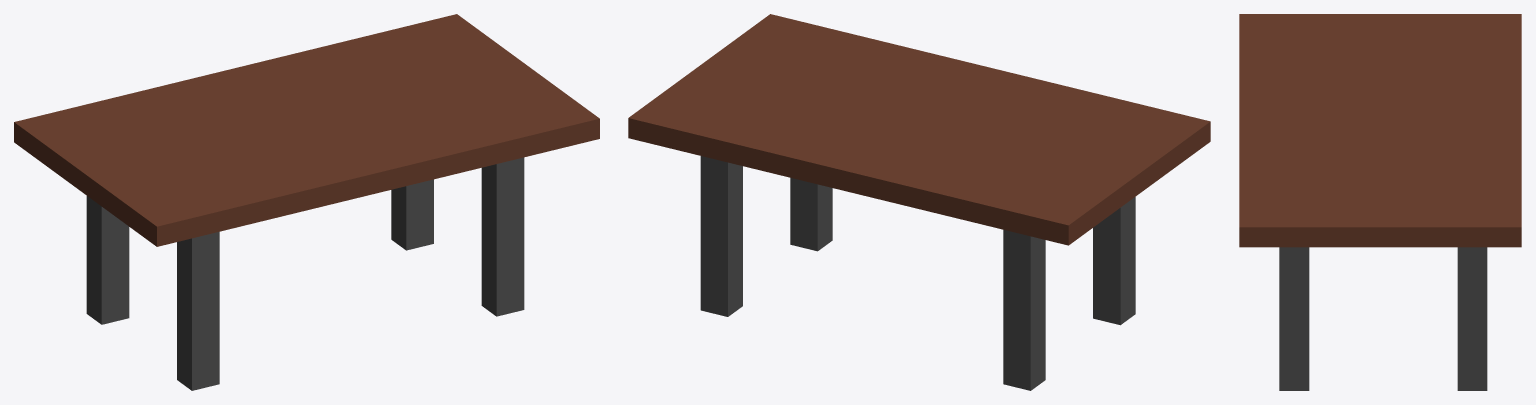
File: Mesa.fbx
3 renders of one model, left to right at view 1: azimuth 30°, elevation 25°; view 2: azimuth 150°, elevation 25°; view 3: azimuth 270°, elevation 25°, orthographic.
Visible parts, largest first — view 1: Cubo.003; view 2: Cubo.003; view 3: Cubo.003.
Part boxes in pixels (left/top/right/bottom): Cubo.003: left=14, top=14, right=599, bottom=390; Cubo.003: left=628, top=14, right=1210, bottom=390; Cubo.003: left=1239, top=14, right=1521, bottom=390.
Size of the model in its own units: 986 by 410 by 551.
